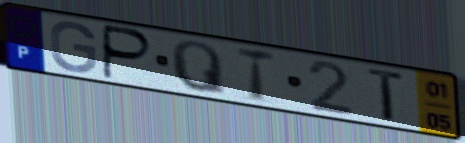2: (305, 59, 356, 117)
G: (47, 19, 99, 75)
P: (101, 22, 156, 82)
Q: (168, 39, 230, 99)
T: (235, 44, 278, 105), (365, 65, 409, 124)
